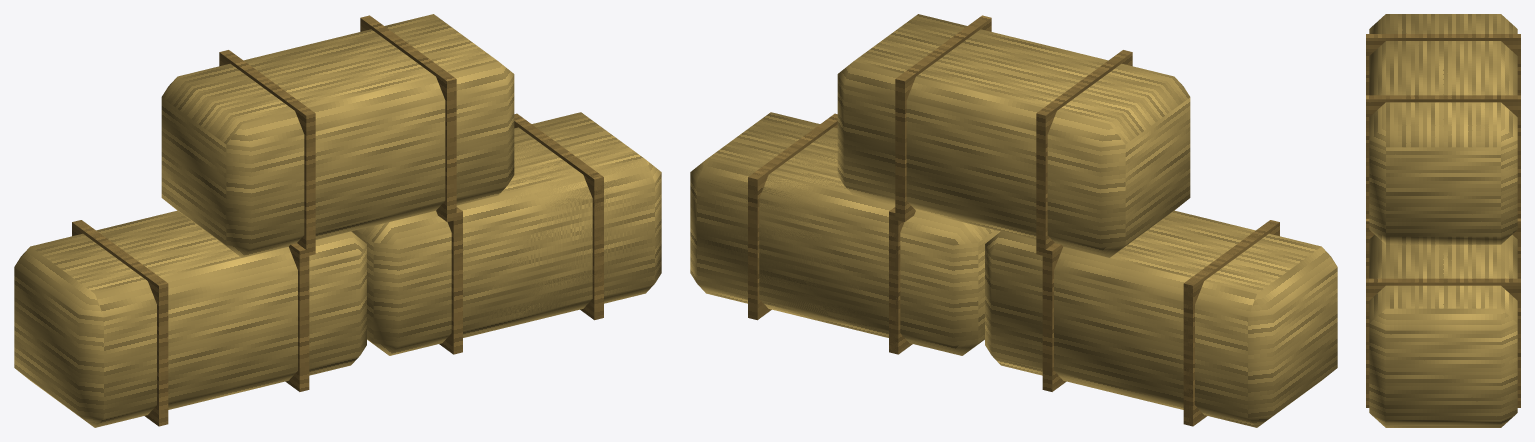
File: fardos_pilha.glb
3 renders of one model, left to right at view 1: azimuth 30°, elevation 25°; view 2: azimuth 150°, elevation 25°; view 3: azimuth 270°, elevation 25°, orthographic. The views are drawn at different scales.
Visible parts, largest first — view 1: Inteiro, Peca_01; view 2: Inteiro, Peca_01, Peca_00; view 3: Inteiro.
Part boxes in pixels (box(x1,y1,x2,y2)): Inteiro: box(14, 14, 661, 427); Peca_01: box(351, 114, 652, 355); Inteiro: box(690, 14, 1337, 427); Peca_01: box(698, 114, 1000, 355); Peca_00: box(1047, 221, 1277, 425); Inteiro: box(1366, 14, 1520, 427).
Bounding box in the file's own units: 1.82 × 0.82 × 0.47.
Materials: 1 (1 with a texture image).
